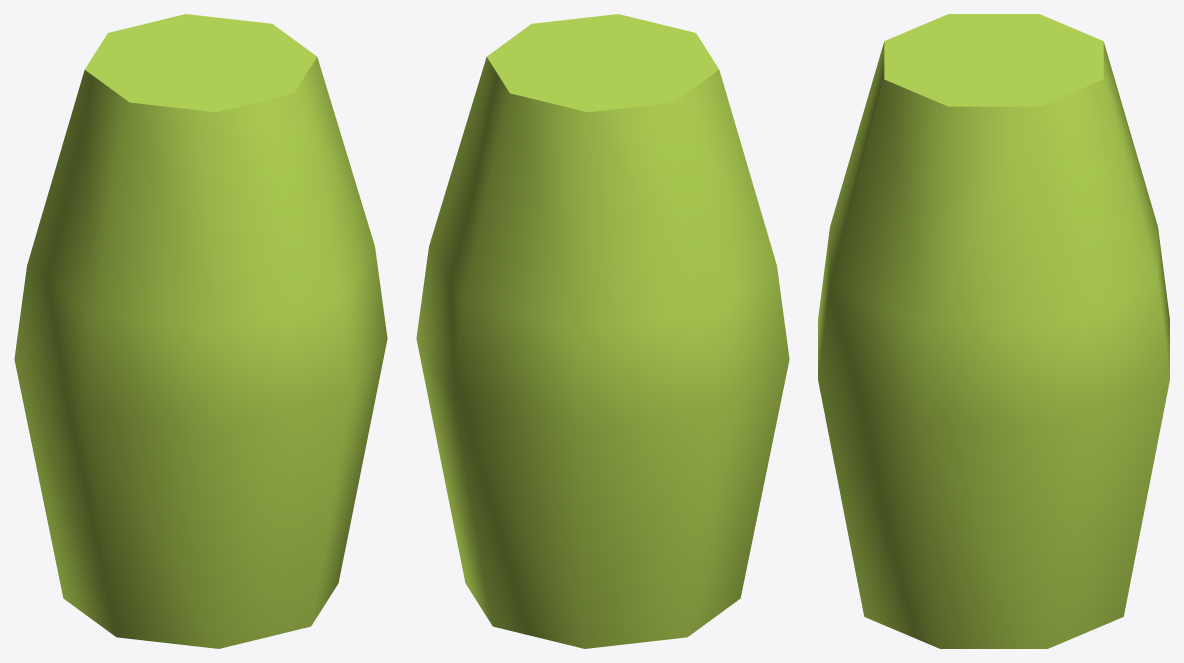
File: pepper_convex.fbx
The picture shows the model from 3 angles, left to right: view 1: azimuth 30°, elevation 25°; view 2: azimuth 150°, elevation 25°; view 3: azimuth 270°, elevation 25°; orthographic projection.
Visible parts, largest first — view 1: pepper_convex; view 2: pepper_convex; view 3: pepper_convex.
Boxes of the visible parts, left/top/right/bottom form: pepper_convex: left=14, top=14, right=387, bottom=648; pepper_convex: left=416, top=14, right=789, bottom=648; pepper_convex: left=818, top=14, right=1169, bottom=648.
Size of the model in its own units: 1.19 by 1.19 by 2.
